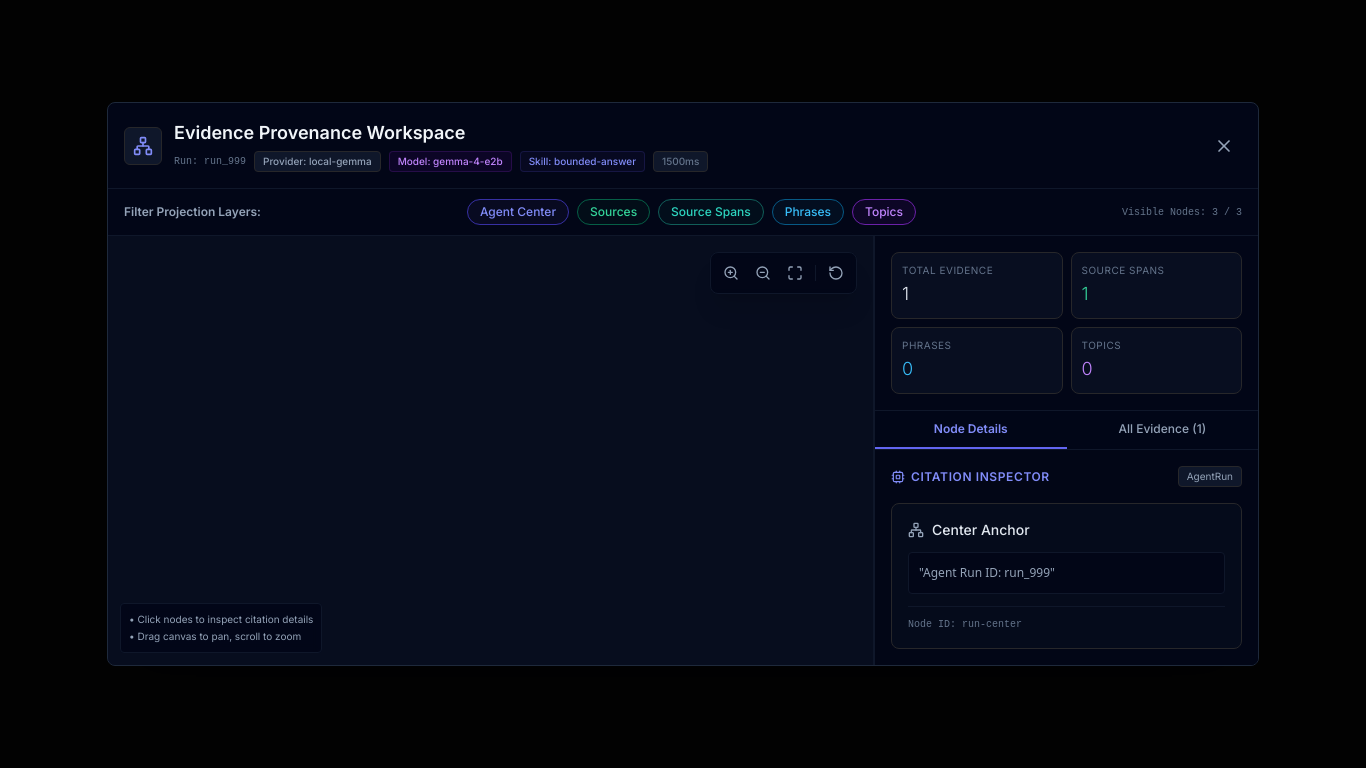
Test case: ProvenanceViewerModal › allows switching sidebar tabs and performing search on evidence
Expected: the heading "Evidence Provenance Workspace" is shown, [174,122,466,143]
# Click "All Evidence (1)" tab
Click the button "All Evidence (1)". click: coordinates (1162, 430)
box: [1066,411,1258,449]
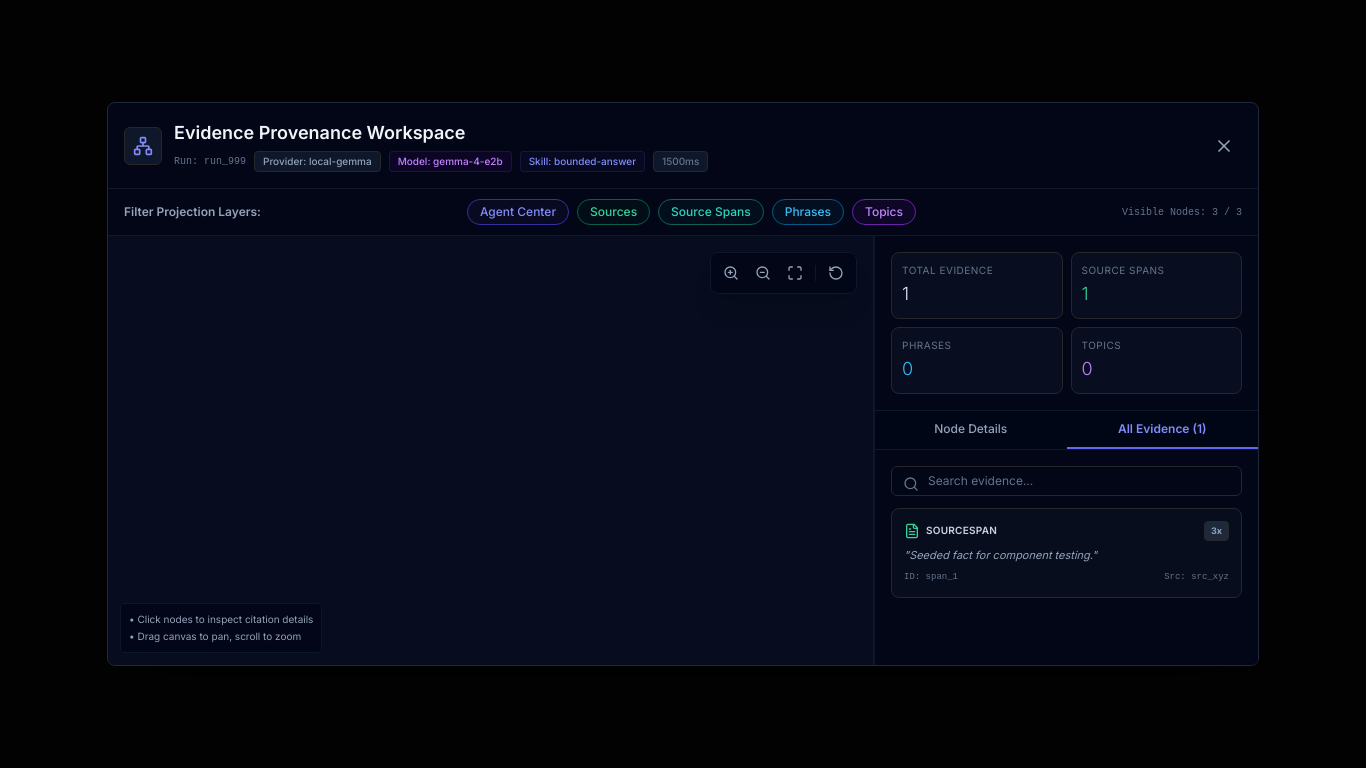
Now the field with placeholder "Search evidence..." is shown
Now the text "\"Seeded fact for component testing.\"" is shown, box [904,548,1097,562]
# Type query that matches nothing
Type "nonexistentkeyword" into the field with placeholder "Search evidence...". click: coordinates (1066, 481)
box: [891,466,1242,496]
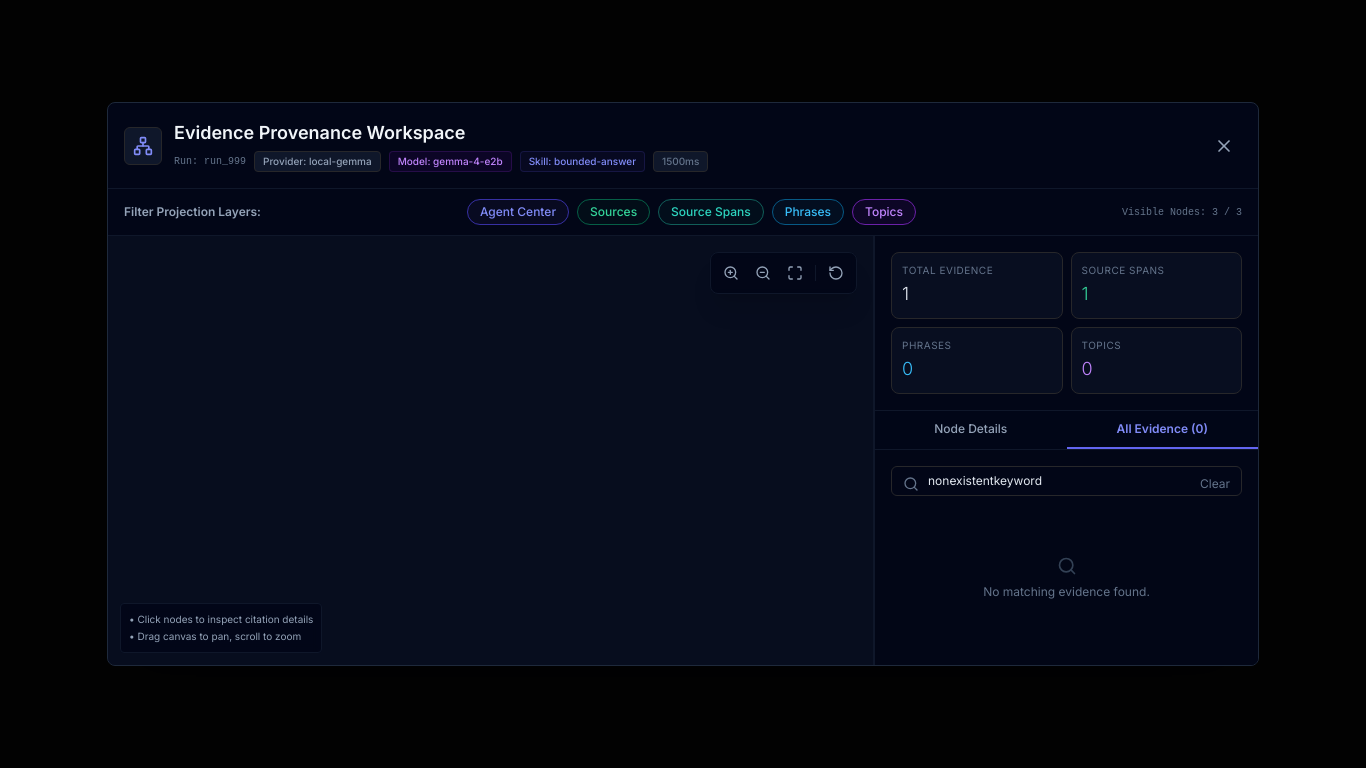
Now the text "No matching evidence found." is shown, box [983,584,1150,599]
# Clear search
Click the button "Clear". click: coordinates (1215, 484)
box: [1200,476,1230,492]
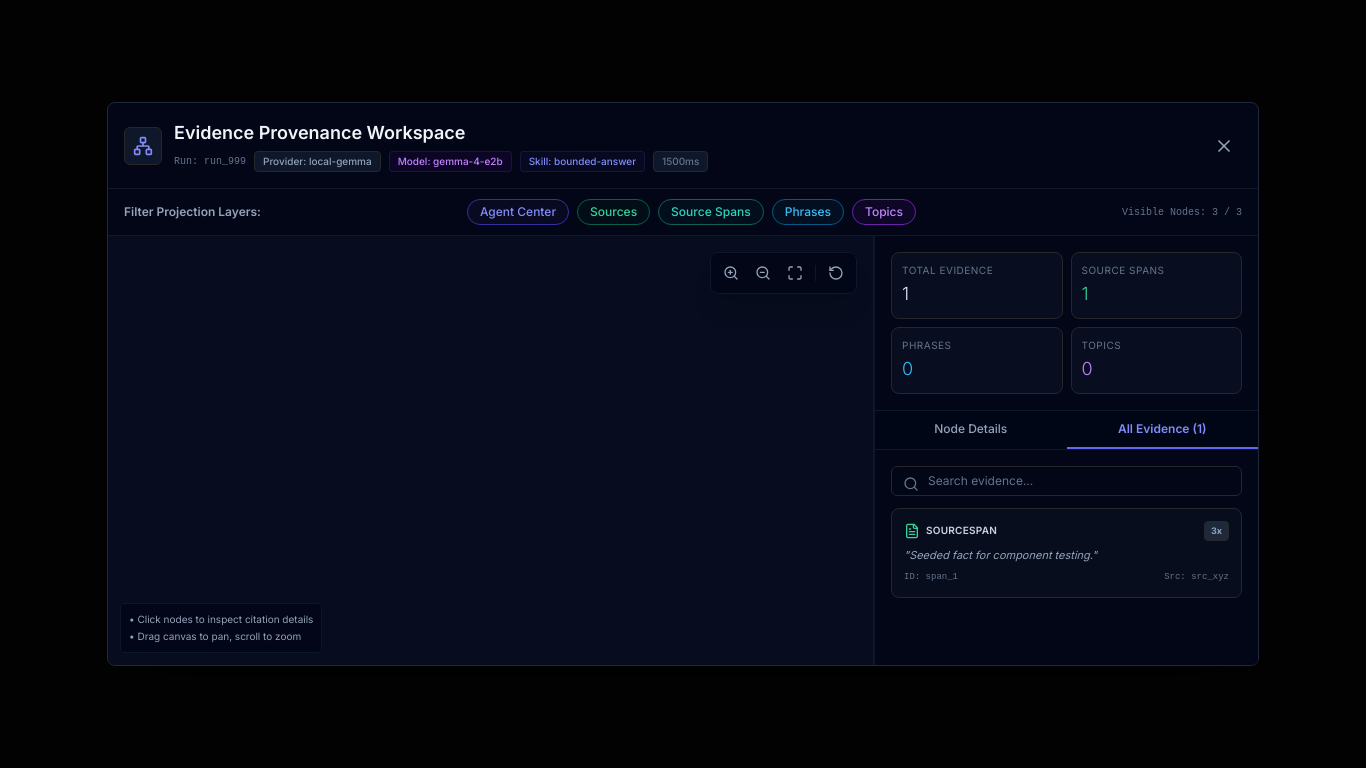
Now the text "\"Seeded fact for component testing.\"" is shown, box [904,548,1097,562]
